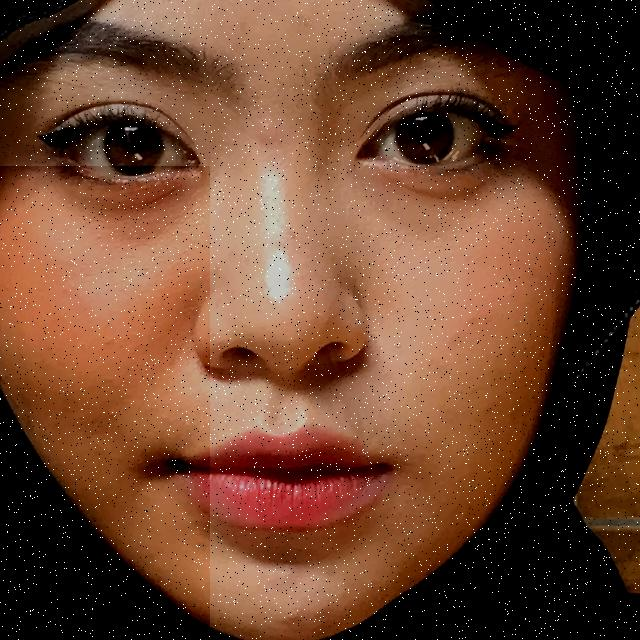ibu: (0, 166, 210, 640)
